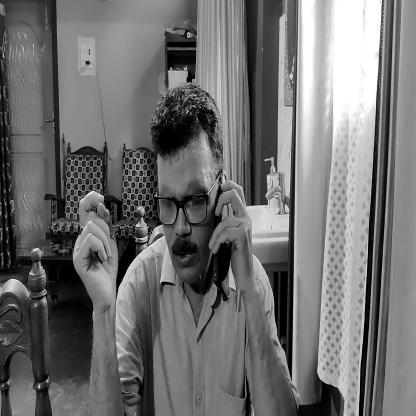Normal: (148, 67, 224, 291)
